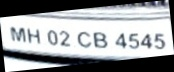character: (10, 26, 25, 42), (77, 31, 91, 47), (93, 31, 107, 47), (27, 27, 40, 44), (114, 32, 127, 48), (59, 29, 70, 46), (154, 32, 165, 49), (128, 33, 139, 49), (46, 29, 57, 44), (140, 34, 151, 48)
